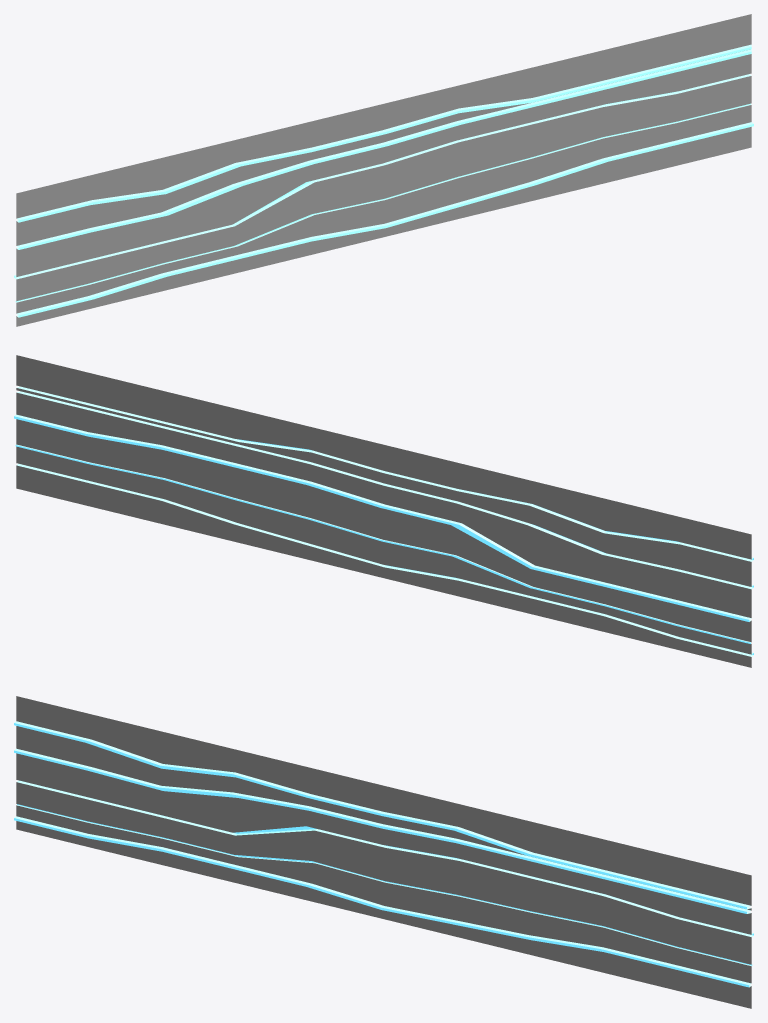
Rendered from Fence_Blue.glb.
3 views of the same model, one above another, from view 1: azimuth 30°, elevation 25°; view 2: azimuth 150°, elevation 25°; view 3: azimuth 330°, elevation 25° (orthographic).
Visible parts, largest first — view 1: factory_fence_02_geo, factory_fence_02_geo.001; view 2: factory_fence_02_geo, factory_fence_02_geo.001; view 3: factory_fence_02_geo, factory_fence_02_geo.001.
Part boxes in pixels (left/top/right/bottom): factory_fence_02_geo: left=16, top=14, right=751, bottom=326; factory_fence_02_geo.001: left=14, top=44, right=753, bottom=317; factory_fence_02_geo: left=16, top=355, right=751, bottom=667; factory_fence_02_geo.001: left=14, top=386, right=753, bottom=656; factory_fence_02_geo: left=16, top=696, right=751, bottom=1008; factory_fence_02_geo.001: left=14, top=721, right=753, bottom=987.
Size of what is drawn, in the model's own units: 22.9 by 3.97 by 0.2551.
Materials: 2 (1 with a texture image).
